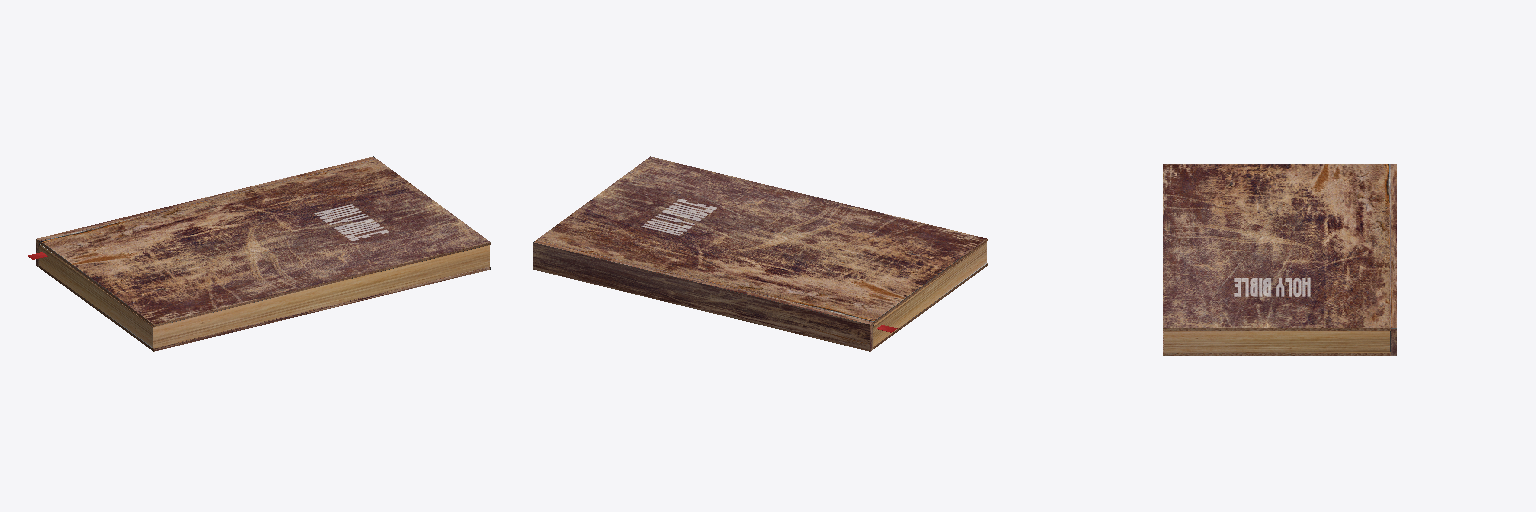
3 renders of one model, left to right at view 1: azimuth 30°, elevation 25°; view 2: azimuth 150°, elevation 25°; view 3: azimuth 270°, elevation 25°, orthographic.
Parts seen in each view (by area): view 1: Object_2; view 2: Object_2; view 3: Object_2.
Boxes of the visible parts, <box> form: Object_2: <box>28,156,490,351</box>; Object_2: <box>533,156,987,351</box>; Object_2: <box>1163,164,1396,355</box>.
Bounding box in the file's own units: 2.09 × 0.1537 × 1.21.
Materials: 1 (1 with a texture image).